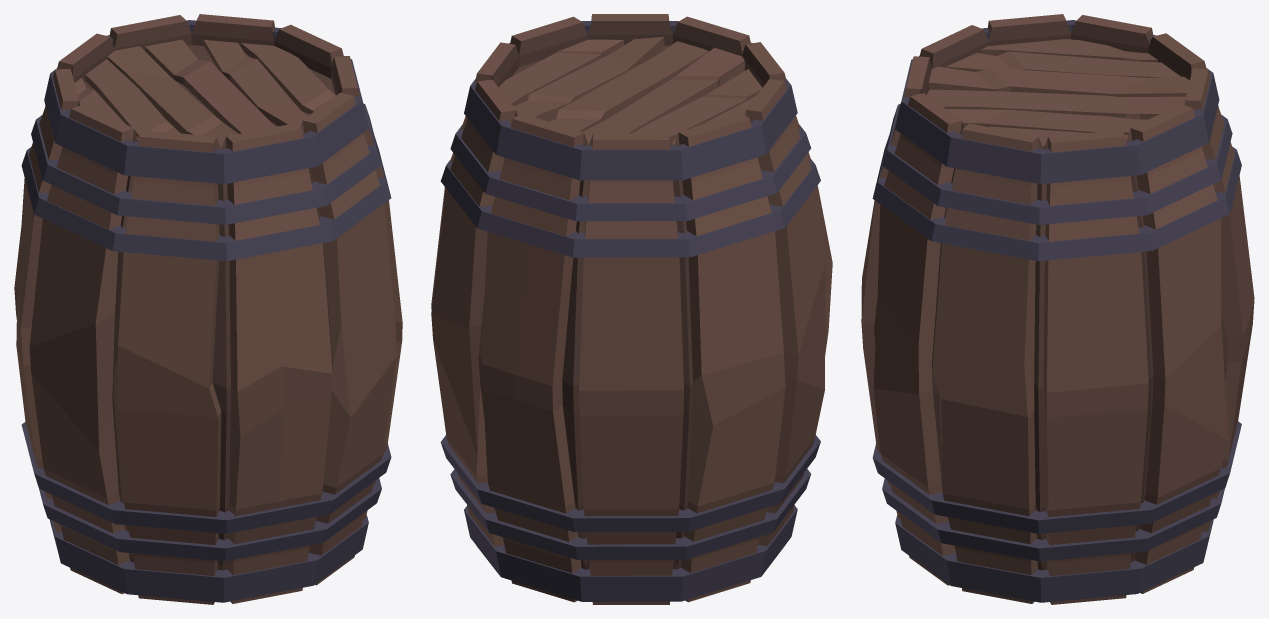
File: Barrel by Quaternius - ONdghDBByN.glb
3 renders of one model, left to right at view 1: azimuth 30°, elevation 25°; view 2: azimuth 150°, elevation 25°; view 3: azimuth 270°, elevation 25°, orthographic.
Parts seen in each view (by area): view 1: Barrel; view 2: Barrel; view 3: Barrel.
Boxes of the visible parts, x1,y1,x2,y2 form: Barrel: (14, 14, 402, 604); Barrel: (431, 14, 832, 604); Barrel: (861, 14, 1254, 604).
Size of the model in its own units: 1.04 by 1.35 by 1.03.
